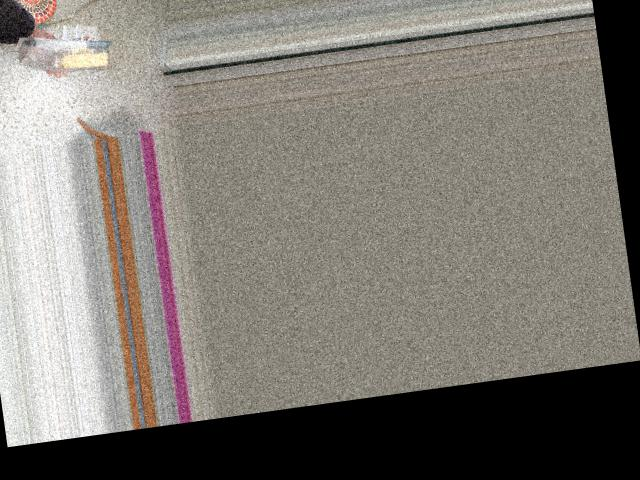cheese: (17, 26, 112, 80)
